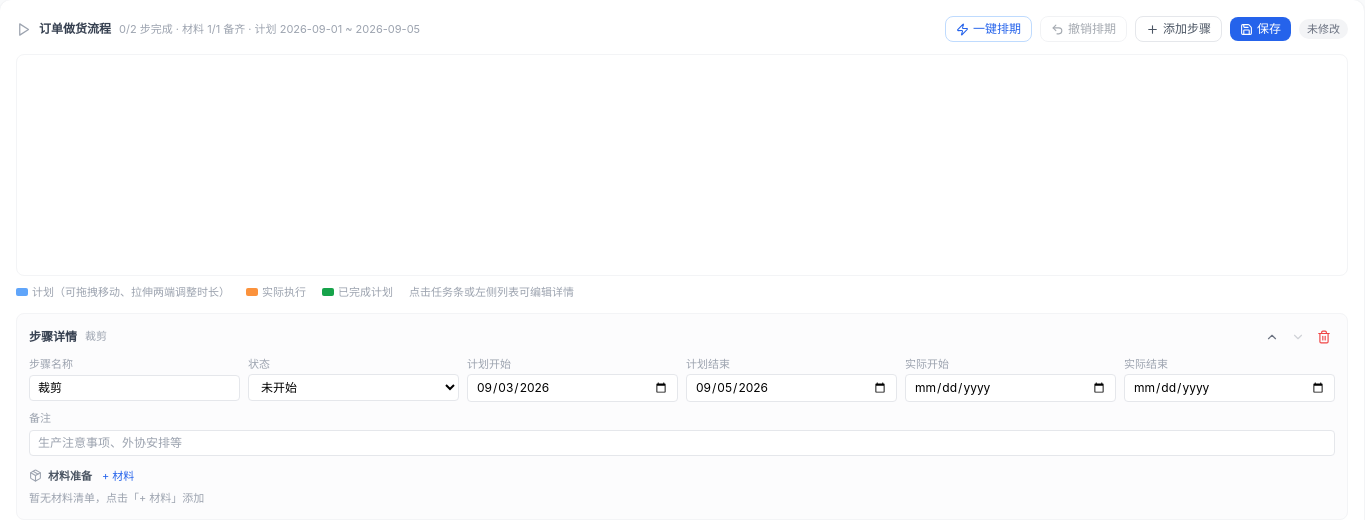
Test: 订单做货流程标签页 › 任务详情编辑 › 上移/下移调整步骤顺序
The image size is (1365, 520).
Expected: the text "计划（可拖拽移动、拉伸两端调整时长）" is shown, x1=16 y1=284 x2=230 y2=300
Expected: the text "步骤详情" is shown, x1=29 y1=328 x2=77 y2=344
// 上移后选中项（idx 0）为「裁剪」
Click the button titled "上移" at [1272, 336], box x1=1261 y1=326 x2=1283 y2=348
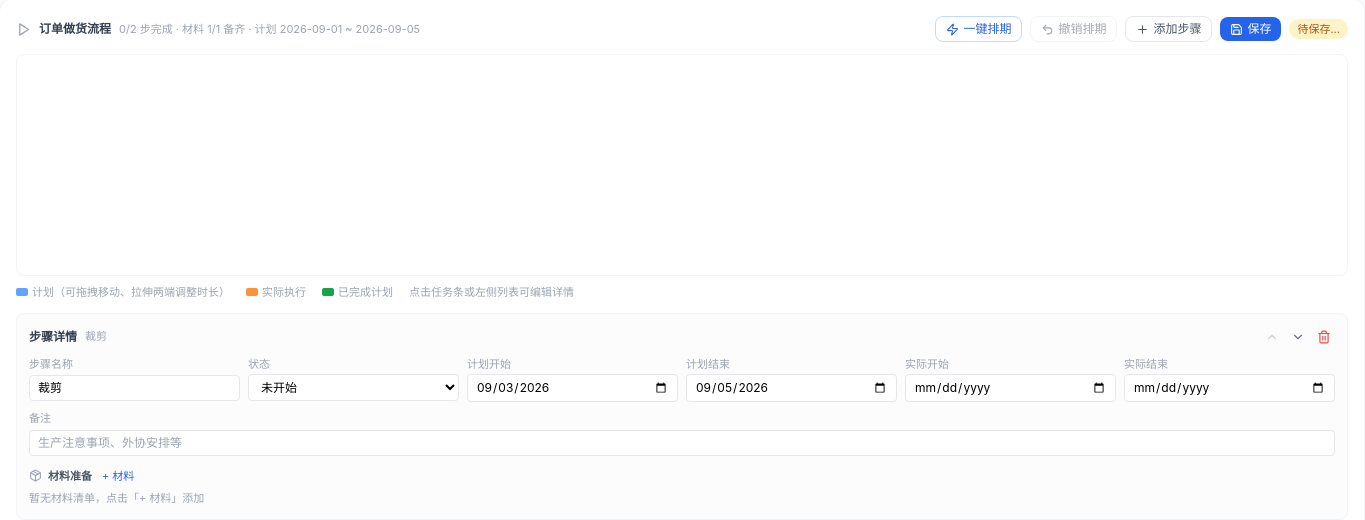
Expected: the field showing "裁剪" is shown, x1=29 y1=375 x2=240 y2=401
Expected: the button titled "上移" is disabled, x1=1261 y1=326 x2=1283 y2=348
Expected: the button titled "下移" is enabled, x1=1287 y1=326 x2=1309 y2=348
